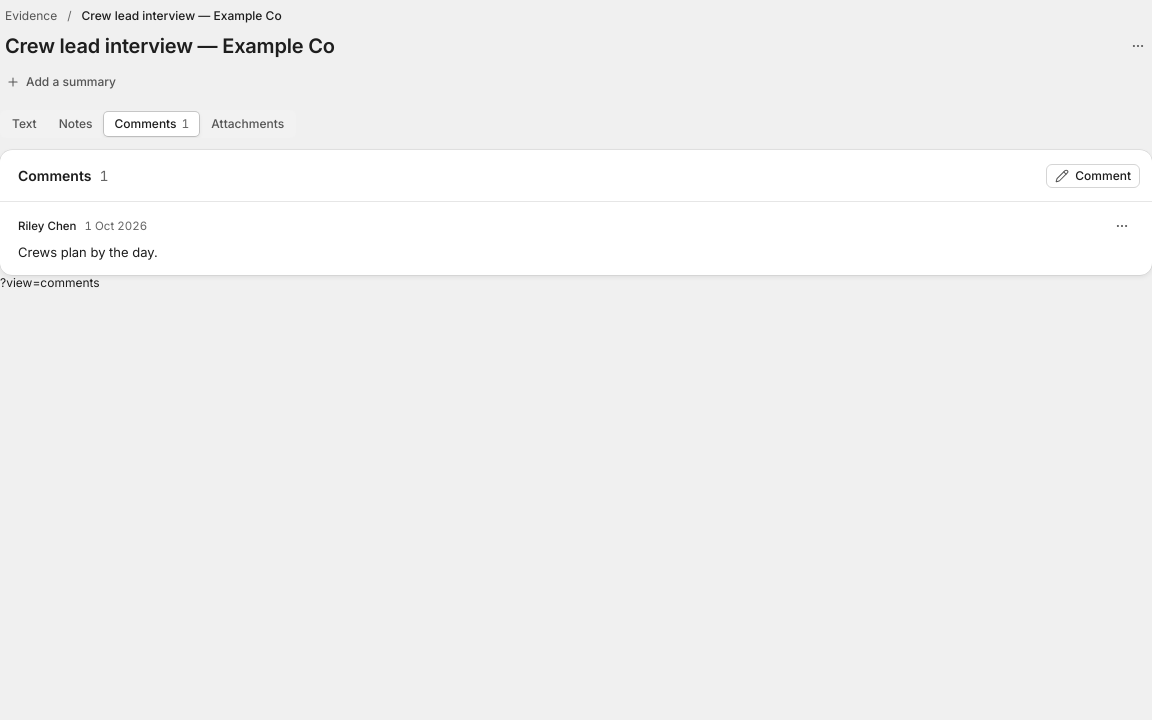
Test: archiving a comment in the web app › offers an admin Archive instead in a comment's delete dialog, beside Cancel
The image size is (1152, 720).
Click the button named "Actions for Riley Chen’s comment from 1 Oct 2026, “Crews pla".
click(1122, 226)  # box top-left (1110, 214), bottom-right (1134, 238)
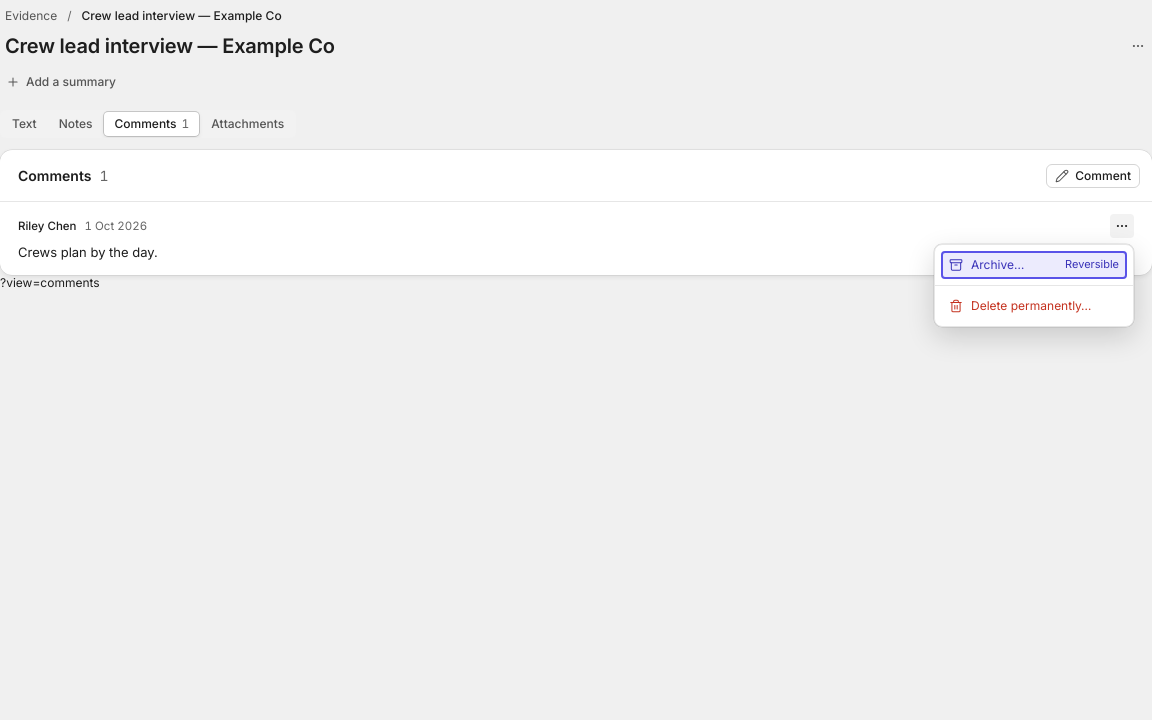
Click the menu item "Delete permanently…".
click(1034, 306)  # box top-left (941, 292), bottom-right (1127, 320)
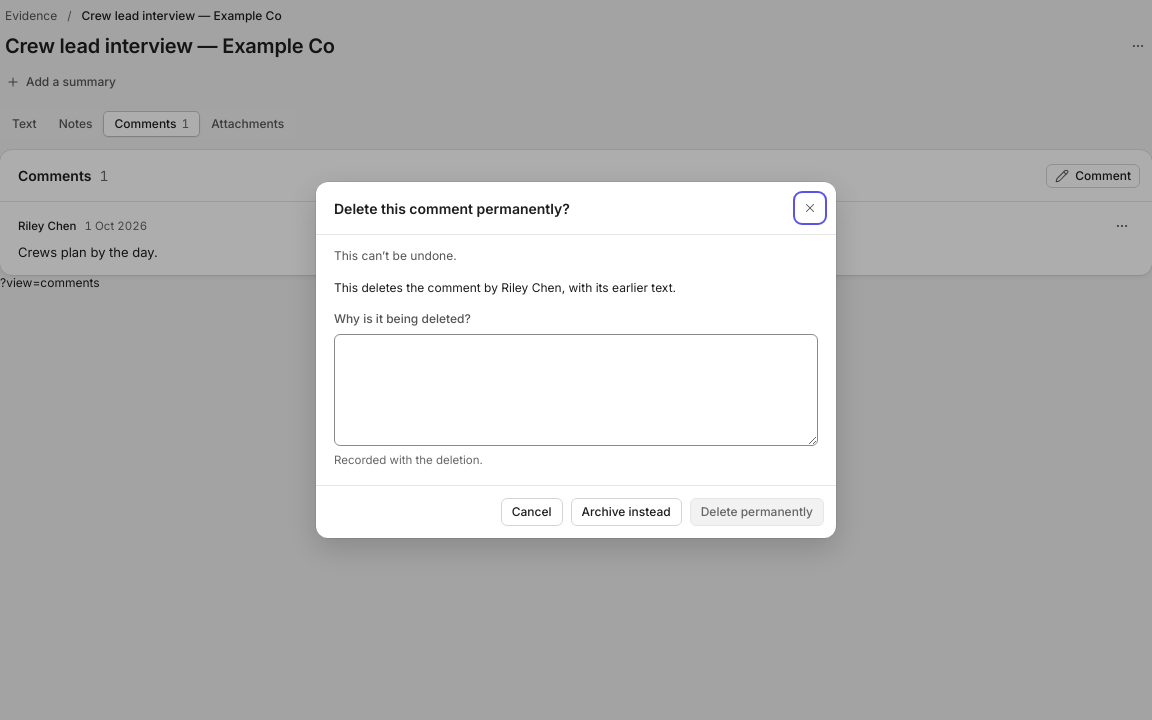
Expected: the heading with class "dialog-title" reads "Delete this comment permanently?", top-left (334, 200), bottom-right (570, 216)
Click the button "Archive instead".
click(626, 512)  # box top-left (571, 498), bottom-right (682, 526)
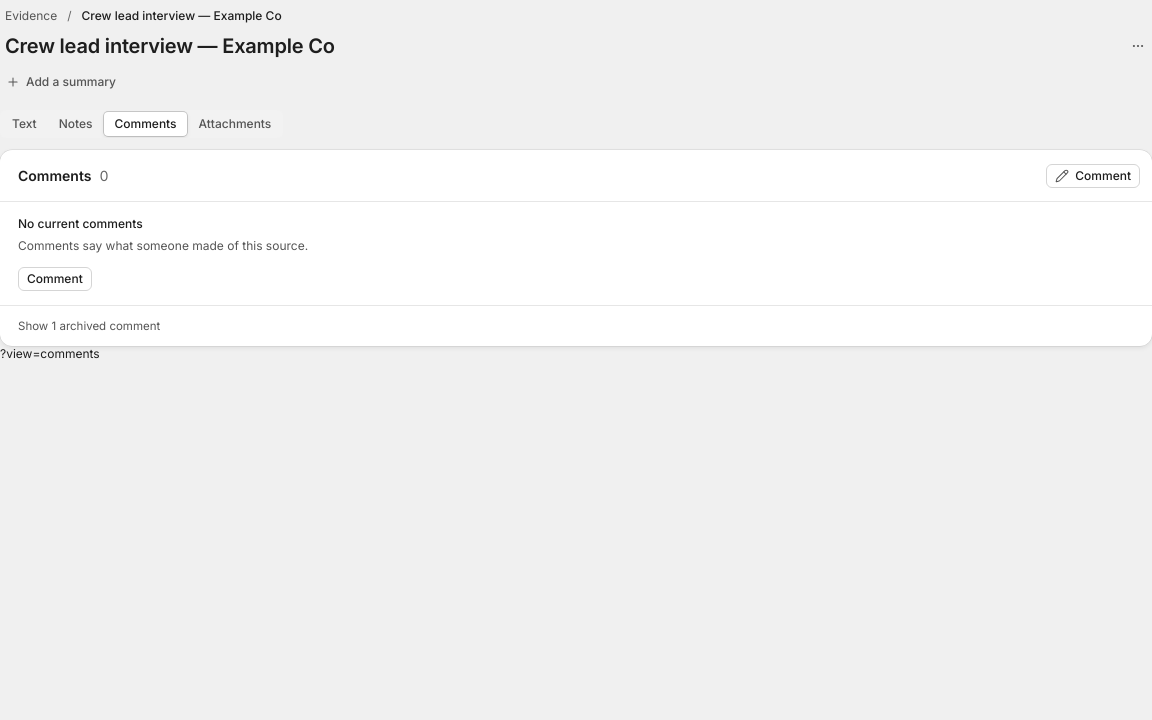
Expected: the button "Show 1 archived comment" is shown, top-left (18, 318), bottom-right (160, 334)
